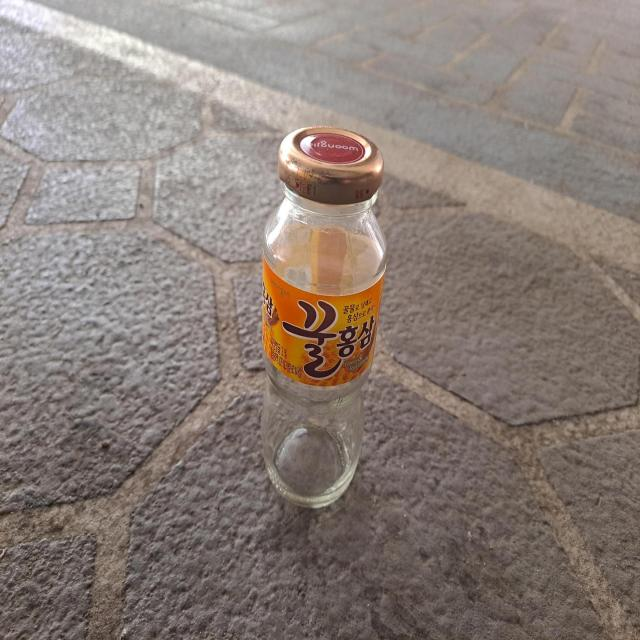glass: (261, 125, 387, 508)
